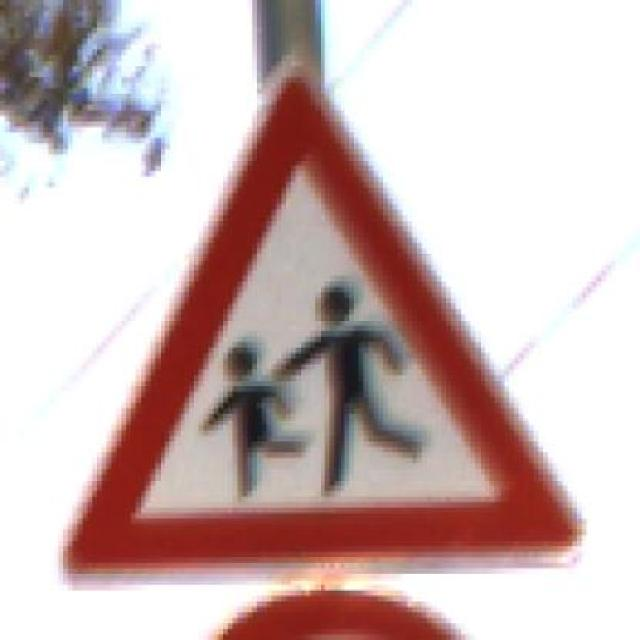Beware of children: (59, 50, 602, 596)
